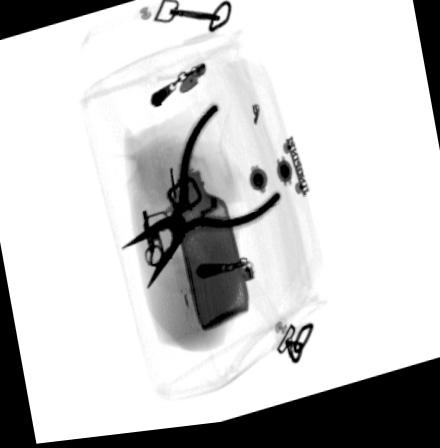Pliers: (119, 108, 281, 294)
